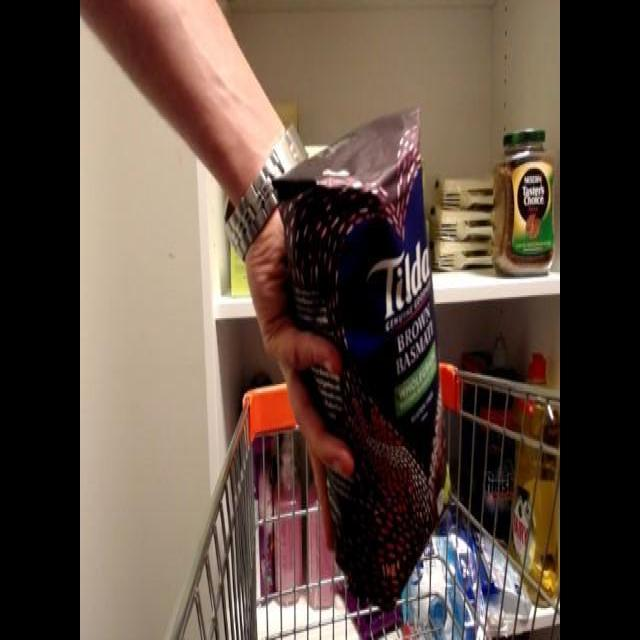Tida: (270, 95, 466, 605)
